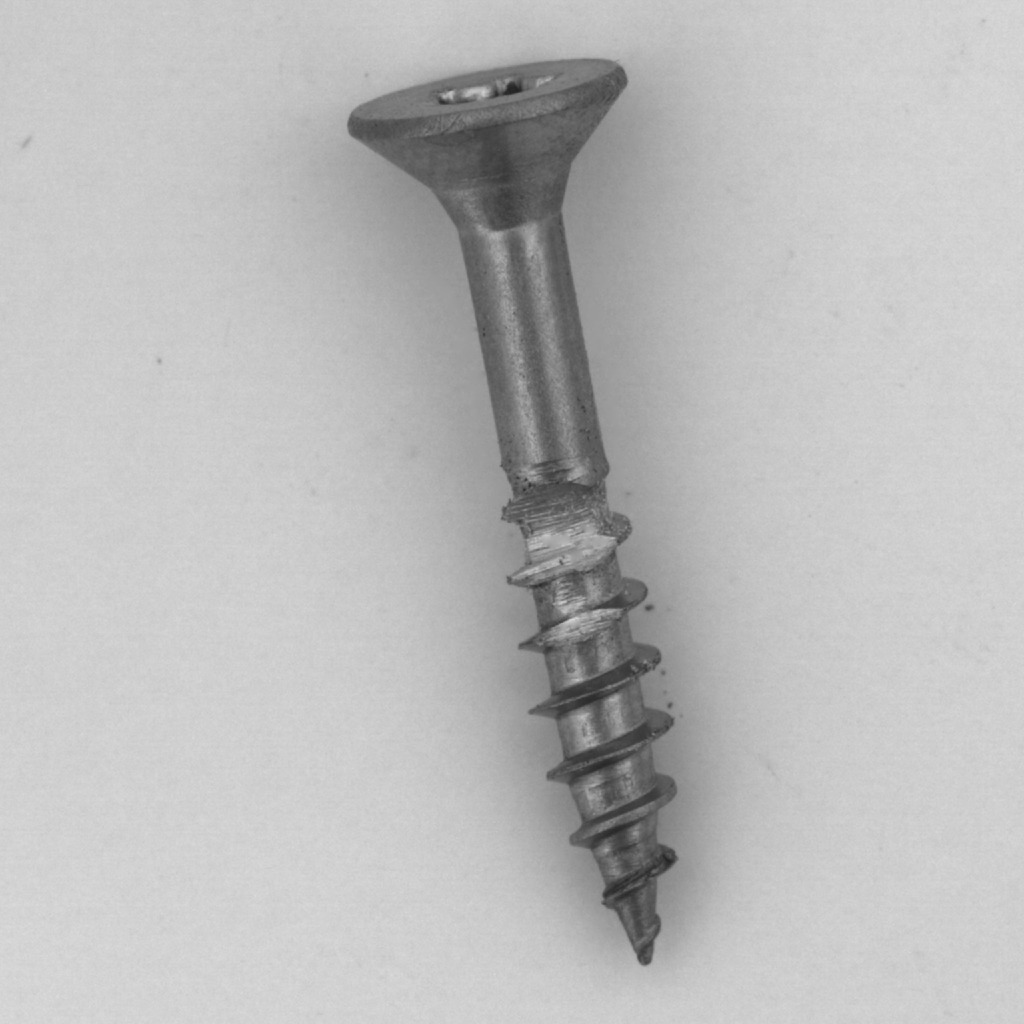thread_top: (420, 424, 728, 632)
